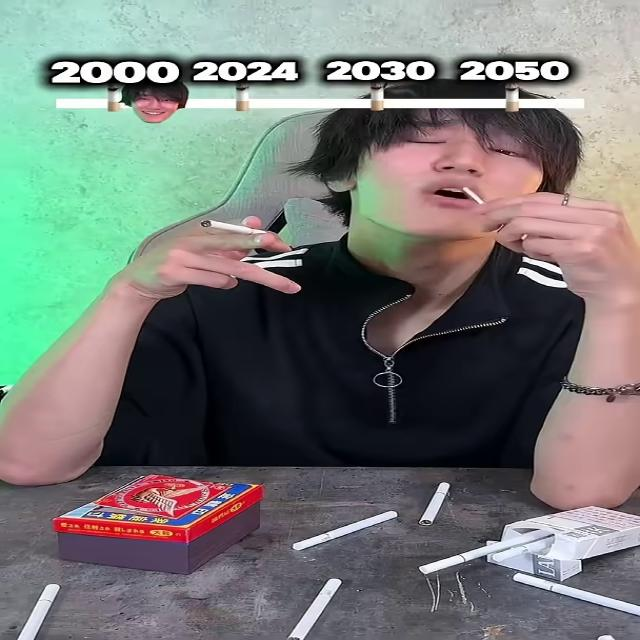Cigarette: (201, 219, 268, 238)
Hand: (123, 214, 302, 314)
Mouth: (416, 178, 502, 214)
